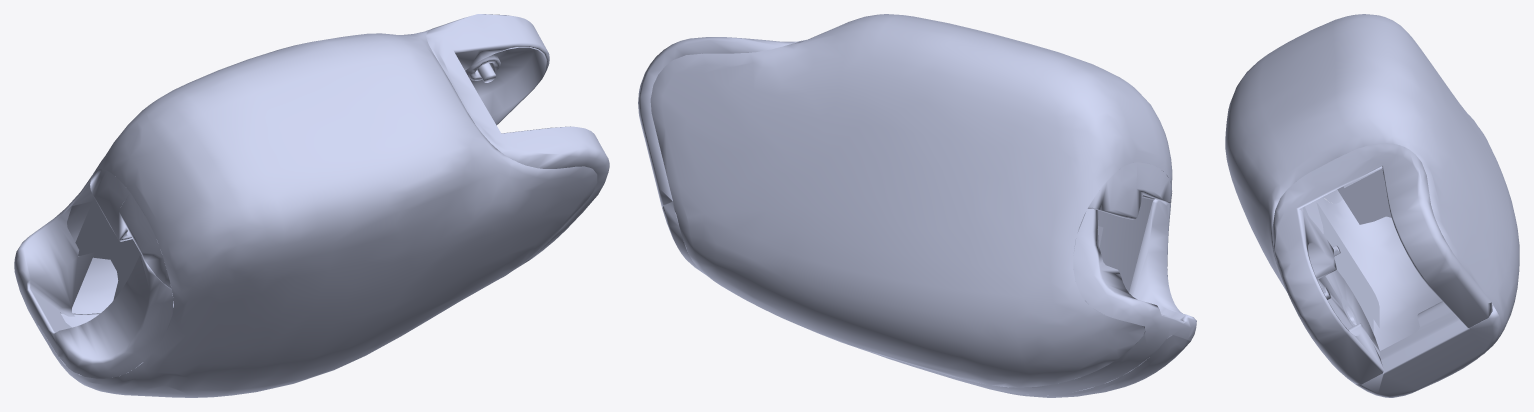
The model's file is right_thumb_MC_visual_cad1ee.glb.
3 renders of one model, left to right at view 1: azimuth 30°, elevation 25°; view 2: azimuth 150°, elevation 25°; view 3: azimuth 270°, elevation 25°, orthographic. The views are drawn at different scales.
Visible parts, largest first — view 1: right_thumb_MC_visual_0; view 2: right_thumb_MC_visual_0; view 3: right_thumb_MC_visual_0.
Part boxes in pixels (x1,y1,x2,y2): right_thumb_MC_visual_0: (14,14,609,397); right_thumb_MC_visual_0: (638,14,1196,397); right_thumb_MC_visual_0: (1225,14,1519,397).
Size of the model in its own units: 0.0673 by 0.0407 by 0.0367.
